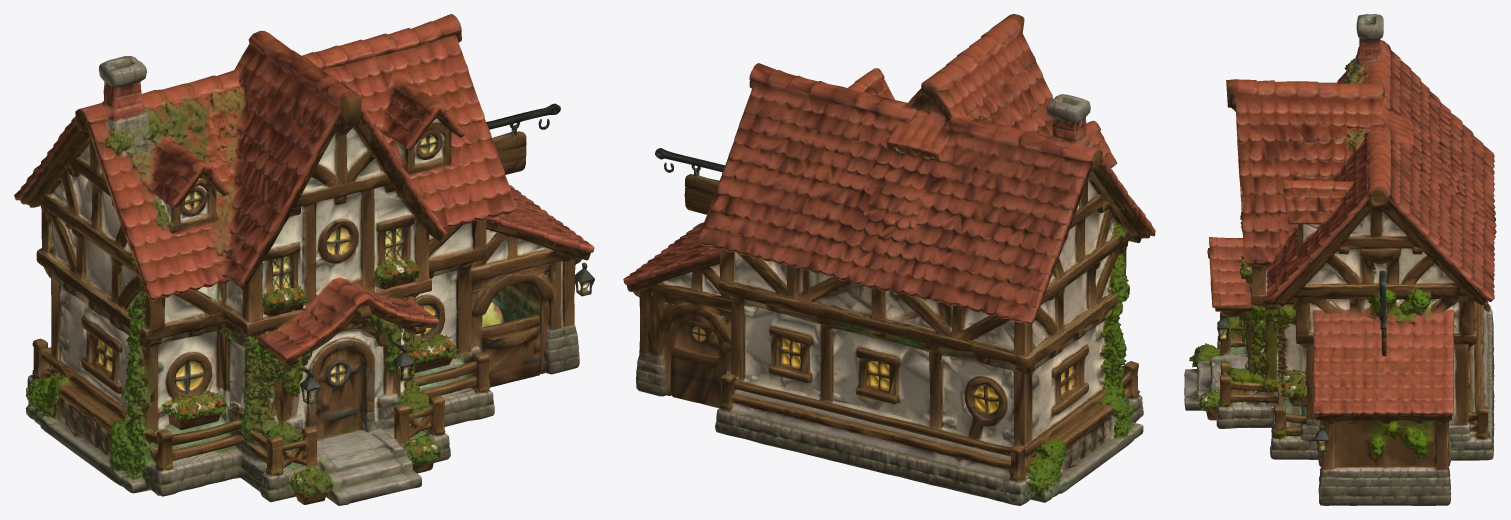
Rendered from bree-inn.glb.
The picture shows the model from 3 angles, left to right: view 1: azimuth 30°, elevation 25°; view 2: azimuth 150°, elevation 25°; view 3: azimuth 270°, elevation 25°; orthographic projection. The views are drawn at different scales.
Size of the model in its own units: 1.9 by 1.47 by 1.29.
1 material, 1 textured.
